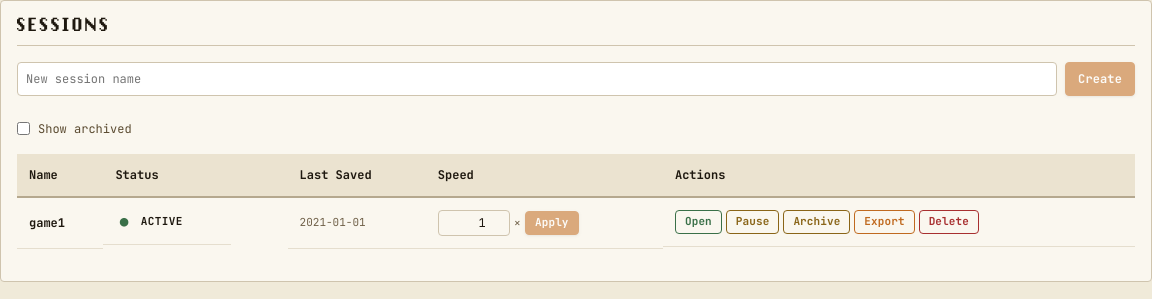
SessionsPanel › disables Apply when input is out of range or non-numeric
Expected: the text "game1" is shown, [17,196,103,248]
Out of range high
Replace the text in the number field with test id "speed-input-game1" with "9999": point(474, 222) [438,210,510,236]
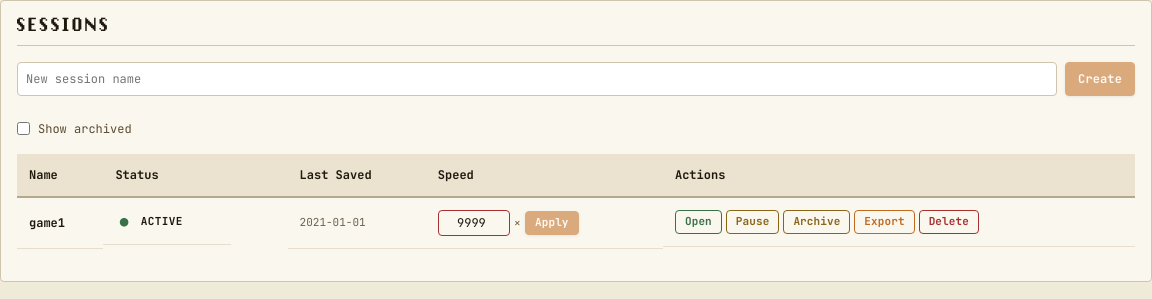
Expected: the button with test id "speed-apply-game1" is disabled, [525,210,579,234]
Out of range low
Replace the text in the number field with test id "speed-input-game1" with "0": point(474, 222) [438,210,510,236]
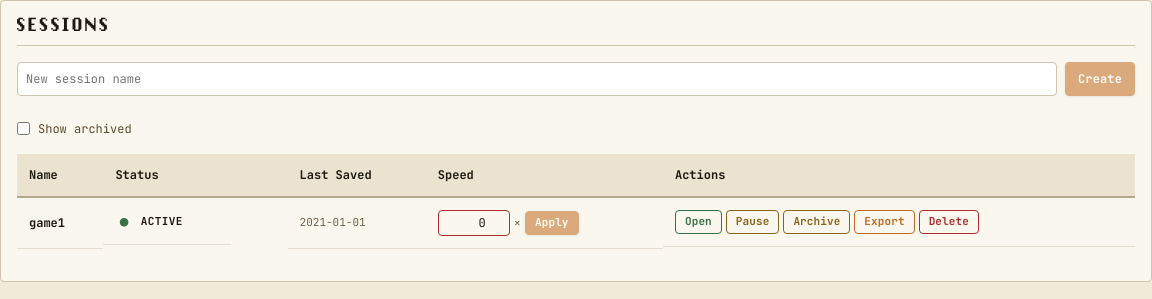
Expected: the button with test id "speed-apply-game1" is disabled, [525,210,579,234]
Replace the text in the number field with test id "speed-input-game1" with "abc": point(474, 222) [438,210,510,236]
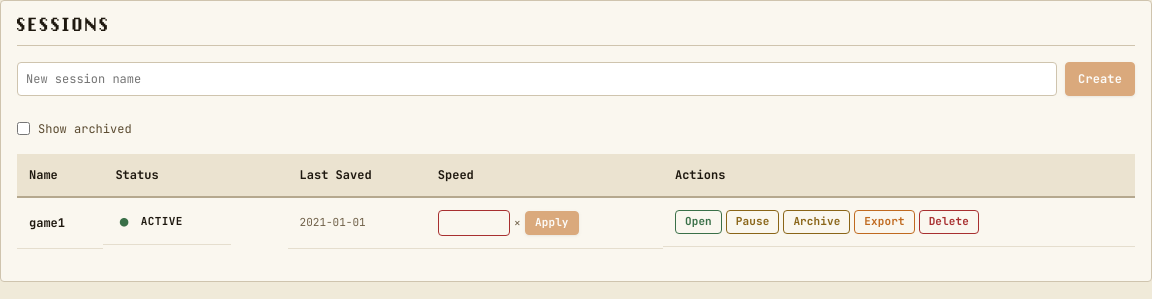
Expected: the button with test id "speed-apply-game1" is disabled, [525,210,579,234]
Same as current (no change → still disabled)
In the number field with test id "speed-input-game1": point(474, 222) [438,210,510,236], type "1"
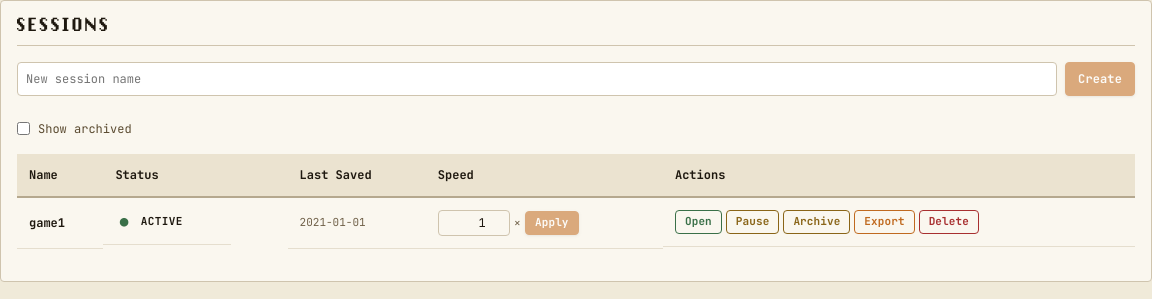
Expected: the button with test id "speed-apply-game1" is disabled, [525,210,579,234]
Valid + dirty
Replace the text in the number field with test id "speed-input-game1" with "10": point(474, 222) [438,210,510,236]
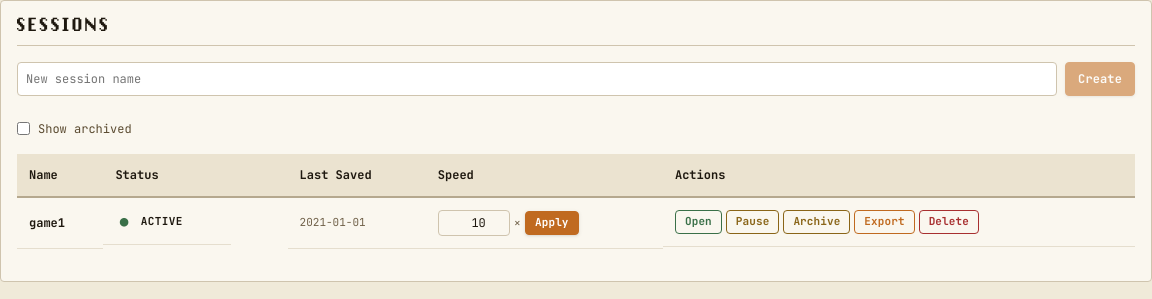
Expected: the button with test id "speed-apply-game1" is enabled, [525,210,579,234]
